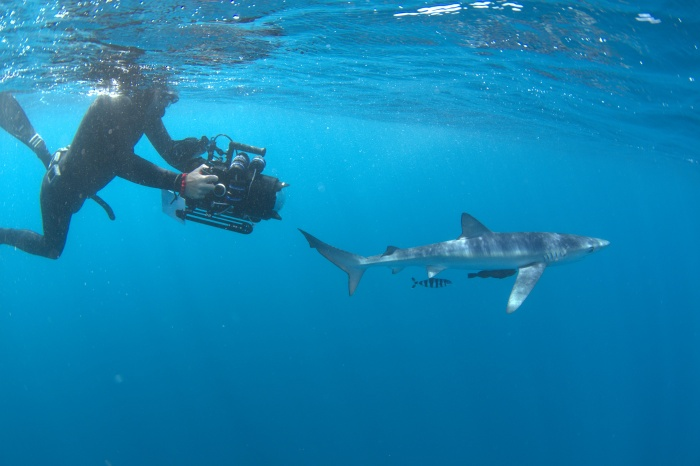Azul: (291, 195, 627, 338)
